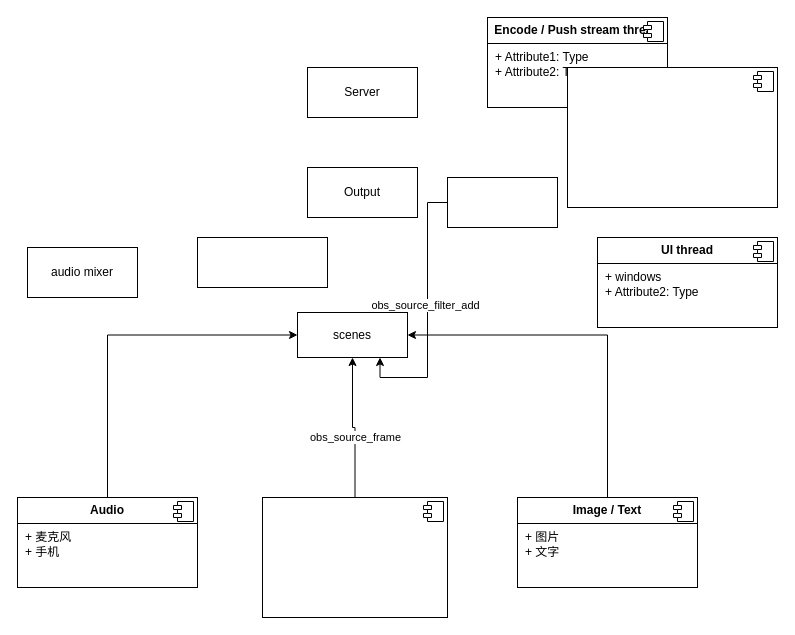
This 795x635 diagram has some shape labels left out. Each missing label, with the box of its shape:
beauty filter: (446, 176, 558, 228)
Composite / Render thread + Attribute1: Type + Attribute2: Type: (566, 66, 778, 208)
Video + 摄像头 + 手机投屏 + 视频文件 + 录制全屏 + 录制窗口: (262, 496, 448, 618)
video mixer 位置，大小，层级关系: (196, 236, 328, 288)
